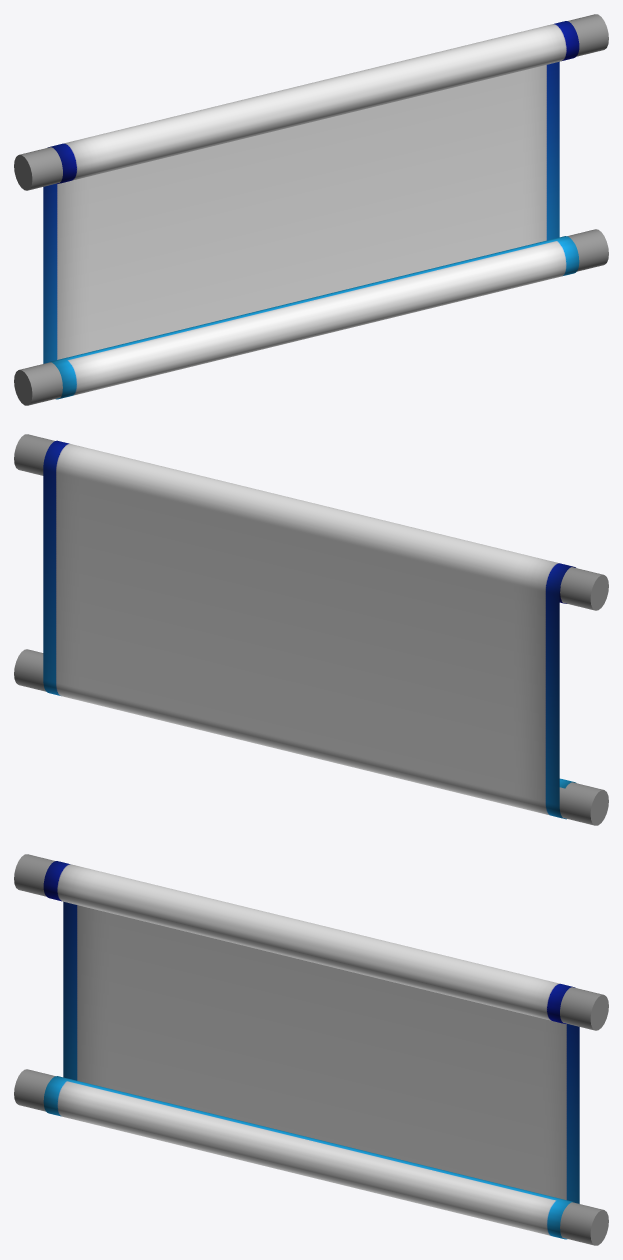
The model's file is scroll.FBX.
3 views of the same model, one above another, from view 1: azimuth 30°, elevation 25°; view 2: azimuth 150°, elevation 25°; view 3: azimuth 330°, elevation 25° (orthographic).
Visible parts, largest first — view 1: Plane001, Cylinder002, Cylinder001; view 2: Plane001, Cylinder001, Cylinder002; view 3: Plane001, Cylinder002, Cylinder001.
Part boxes in pixels (bbox=[...]): Plane001: bbox=[43, 21, 579, 399]; Cylinder002: bbox=[14, 229, 608, 405]; Cylinder001: bbox=[14, 14, 608, 190]; Plane001: bbox=[43, 440, 575, 819]; Cylinder001: bbox=[14, 434, 608, 610]; Cylinder002: bbox=[14, 649, 608, 825]; Plane001: bbox=[43, 861, 579, 1239]; Cylinder002: bbox=[14, 1069, 608, 1245]; Cylinder001: bbox=[14, 854, 608, 1030].
Size of the model in its own units: 112 by 46.22 by 6.62.
Materials: 2 (1 with a texture image).
